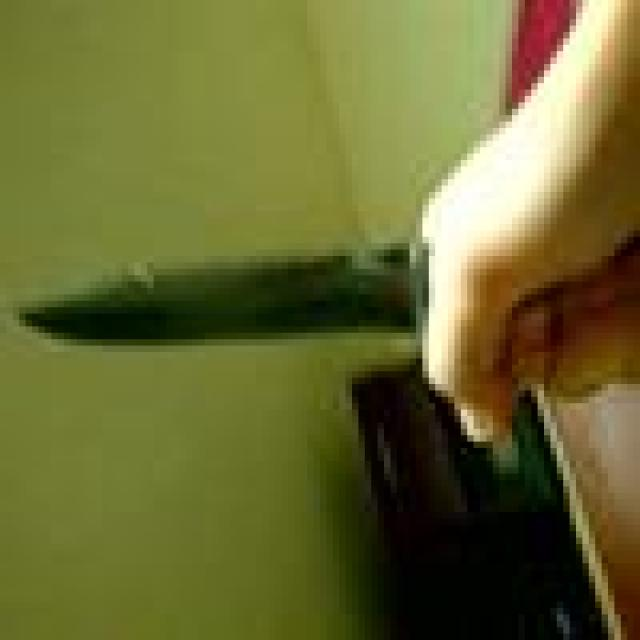knife: (11, 233, 426, 354)
